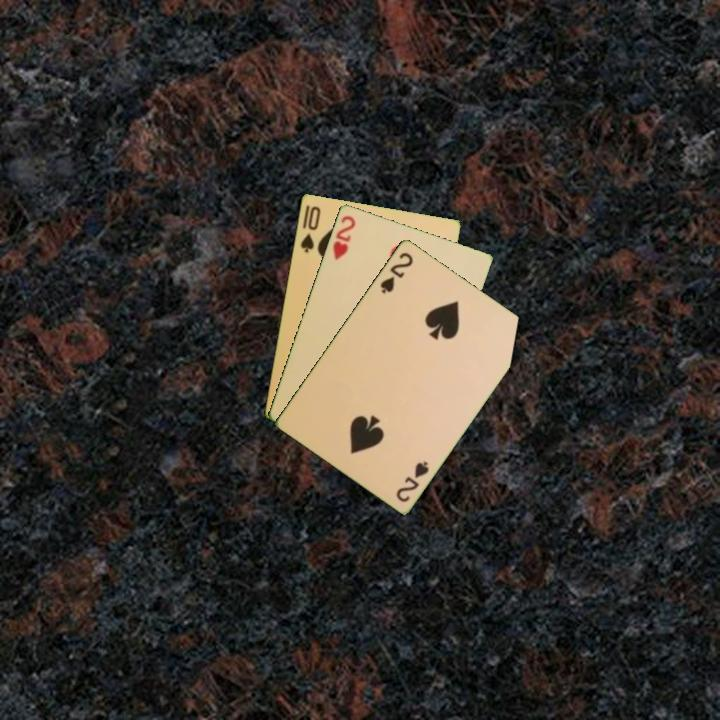10s: (297, 201, 323, 255)
2h: (329, 211, 358, 263)
2s: (376, 248, 416, 296), (392, 457, 432, 505)
